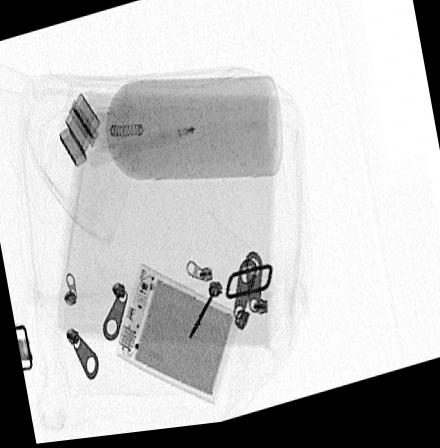Powerbank: (116, 264, 241, 408)
